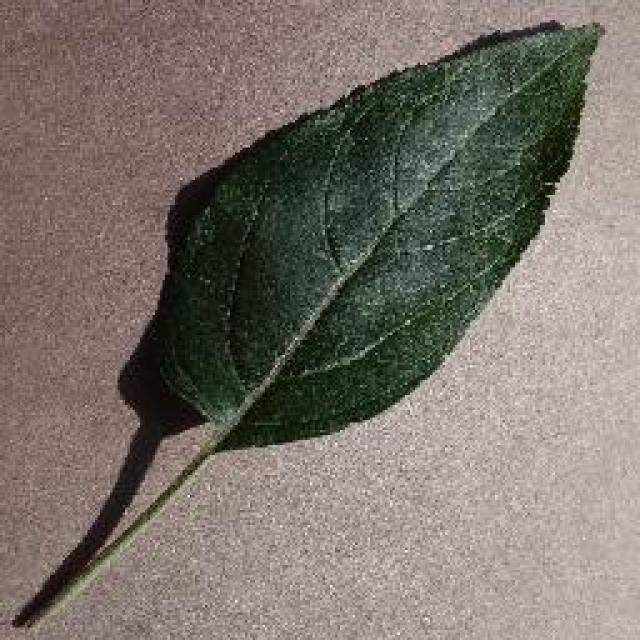apple healthy: (7, 15, 605, 630)
